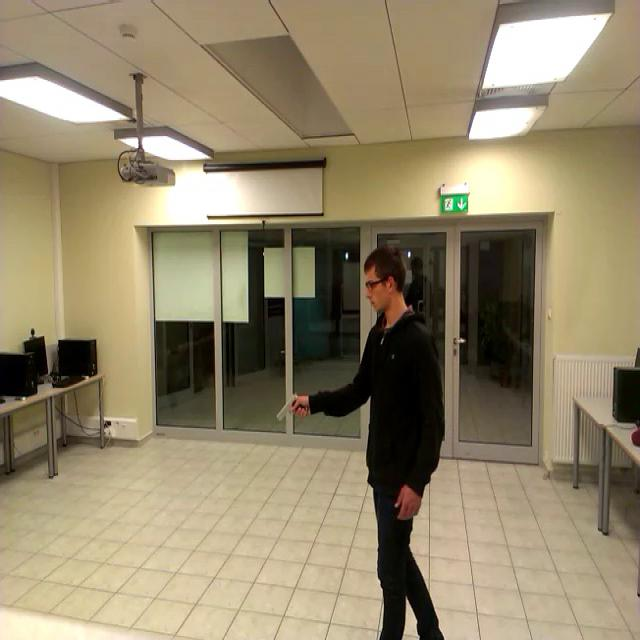handgun: (271, 386, 307, 441)
